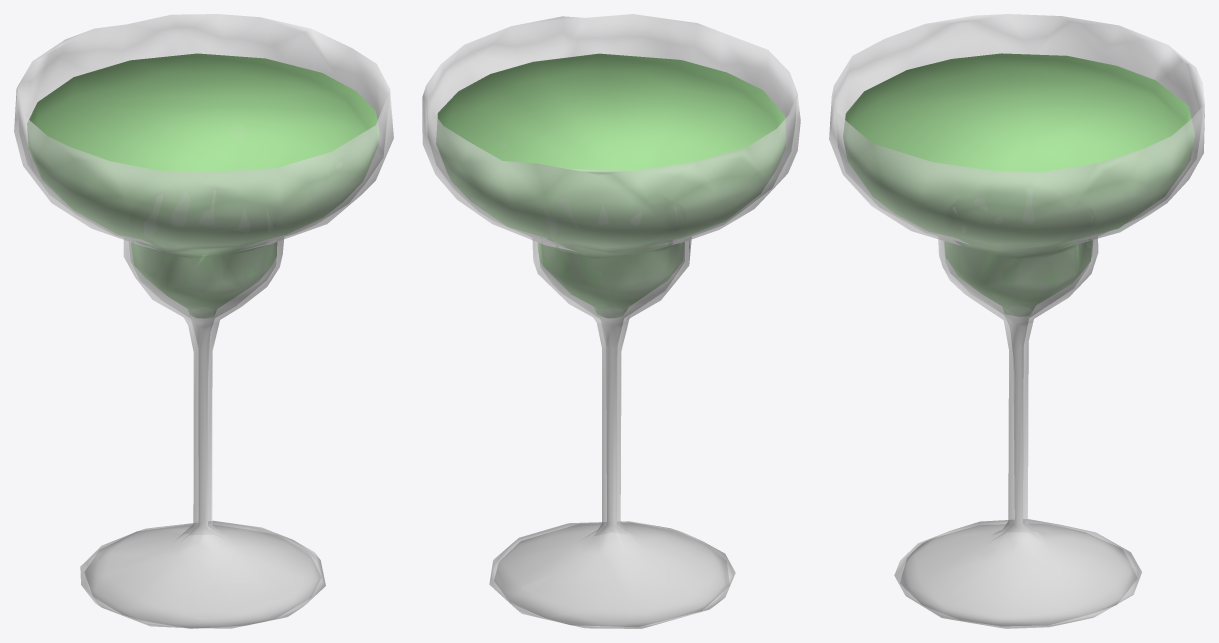
Rendered from 2_yesilkokteyl.fbx.
The picture shows the model from 3 angles, left to right: view 1: azimuth 30°, elevation 25°; view 2: azimuth 150°, elevation 25°; view 3: azimuth 270°, elevation 25°; orthographic projection.
Visible parts, largest first — view 1: Ice_Cube.outer.002; view 2: Ice_Cube.outer.002; view 3: Ice_Cube.outer.002.
Part boxes in pixels (x1,y1,x2,y2): Ice_Cube.outer.002: [14, 14, 393, 628]; Ice_Cube.outer.002: [422, 14, 800, 628]; Ice_Cube.outer.002: [829, 14, 1204, 628].
Size of the model in its own units: 428 by 613 by 424.
